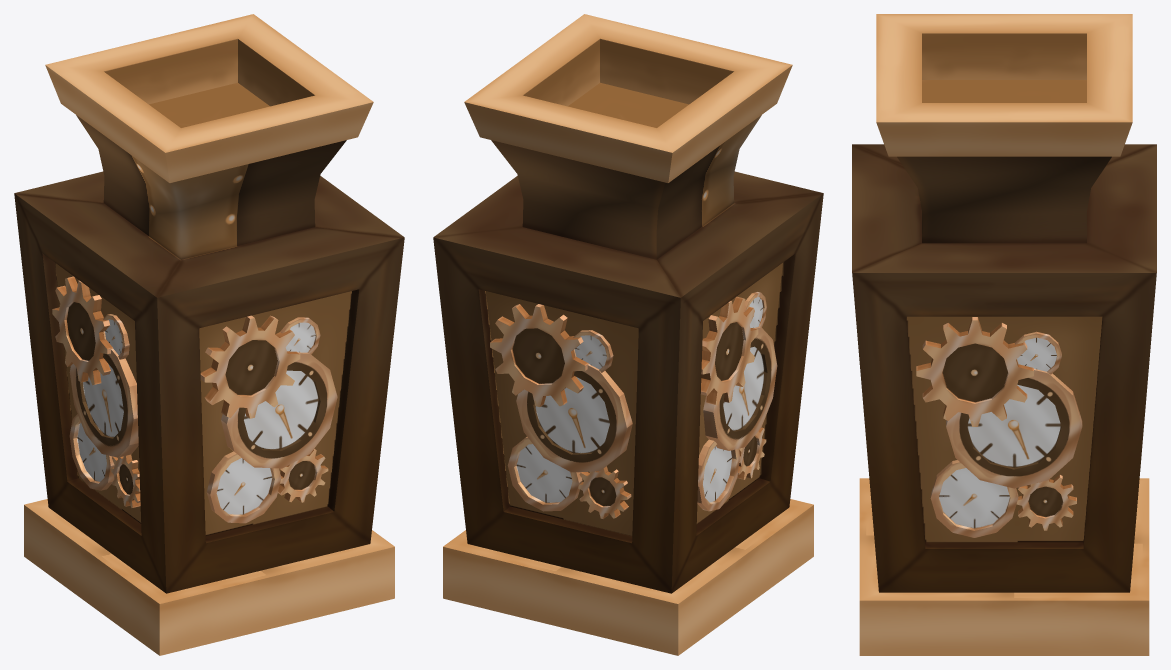
File: trashbox.FBX
3 views of the same model, side by side, from view 1: azimuth 30°, elevation 25°; view 2: azimuth 150°, elevation 25°; view 3: azimuth 270°, elevation 25° (orthographic). The views are drawn at different scales.
Parts seen in each view (by area): view 1: Box001, Star004; view 2: Box001, Star004; view 3: Box001, Star004.
Boxes of the visible parts, left/top/right/bottom form: Box001: left=14, top=14, right=404, bottom=655; Star004: left=52, top=276, right=337, bottom=523; Box001: left=433, top=14, right=823, bottom=655; Star004: left=490, top=292, right=777, bottom=518; Box001: left=852, top=14, right=1156, bottom=655; Star004: left=916, top=317, right=1082, bottom=537.
Bounding box in the file's own units: 100 × 191 × 100.
